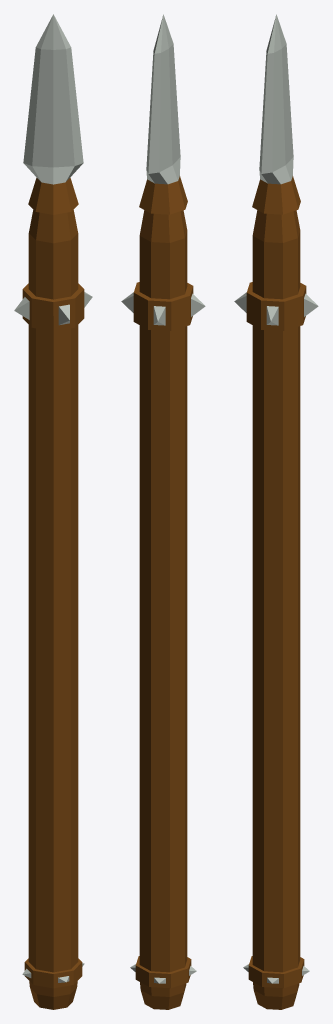
Rendered from Spear 2.fbx.
The picture shows the model from 3 angles, left to right: view 1: azimuth 90°, elevation 25°; view 2: azimuth 150°, elevation 25°; view 3: azimuth 330°, elevation 25°; orthographic projection.
Parts seen in each view (by area): view 1: Circle; view 2: Circle; view 3: Circle.
Part boxes in pixels (x1,y1,x2,y2): Circle: (14, 14, 92, 1009); Circle: (121, 14, 205, 1009); Circle: (234, 14, 318, 1009).
Bounding box in the file's own units: 26.93 × 372 × 26.93.
